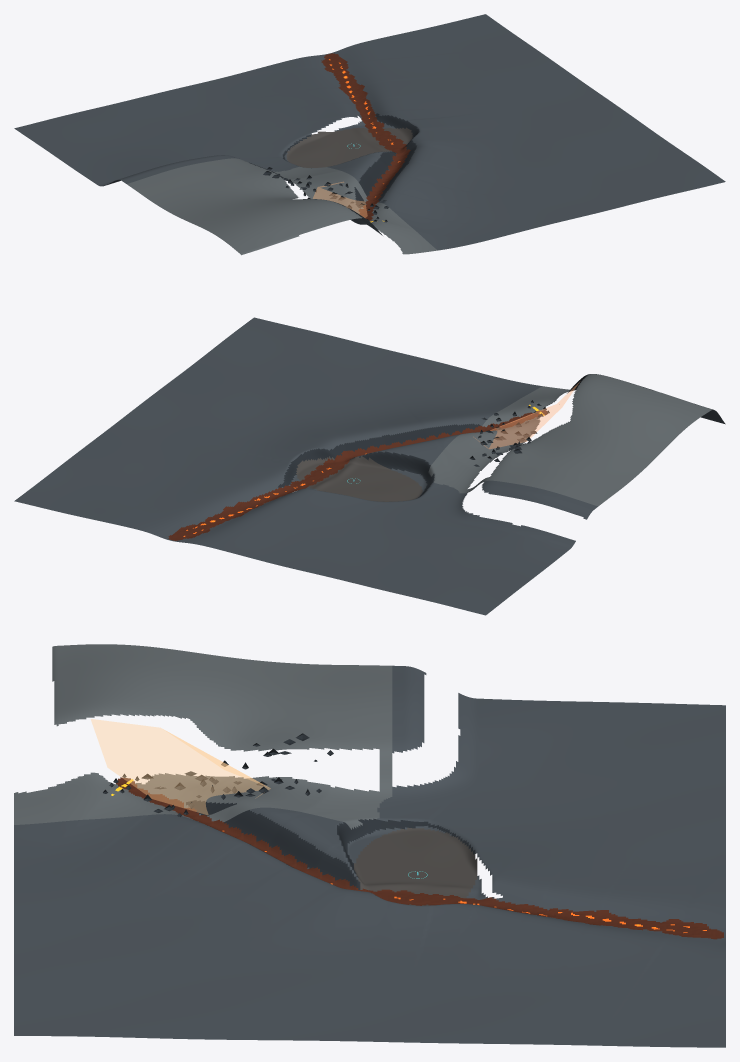
Rendered from ember-breached-rift-bench-graybox-r2.glb.
3 views of the same model, one above another, from view 1: azimuth 30°, elevation 25°; view 2: azimuth 150°, elevation 25°; view 3: azimuth 270°, elevation 25° (orthographic). The views are drawn at different scales.
Parts seen in each view (by area): view 1: EMBER_Terrain, EMBER_LavaSimulatorDeposit, EMBER_CollapseGuide, EMBER_TalusApron; view 2: EMBER_Terrain, EMBER_LavaSimulatorDeposit, EMBER_CollapseGuide, EMBER_TalusApron; view 3: EMBER_Terrain, EMBER_CollapseGuide, EMBER_LavaSimulatorDeposit, EMBER_TalusApron.
Part boxes in pixels (x1,y1,x2,y2): EMBER_Terrain: (14,14,725,255); EMBER_LavaSimulatorDeposit: (321,53,410,220); EMBER_CollapseGuide: (313,182,367,217); EMBER_TalusApron: (263,167,388,214); EMBER_Terrain: (14,317,725,615); EMBER_LavaSimulatorDeposit: (168,410,547,540); EMBER_CollapseGuide: (475,382,579,448); EMBER_TalusApron: (469,411,540,466); EMBER_Terrain: (14,644,725,1047); EMBER_CollapseGuide: (91,719,270,814); EMBER_LavaSimulatorDeposit: (116,777,723,939); EMBER_TalusApron: (142,733,333,816).
Size of the model in its own units: 380 by 41.12 by 335.
